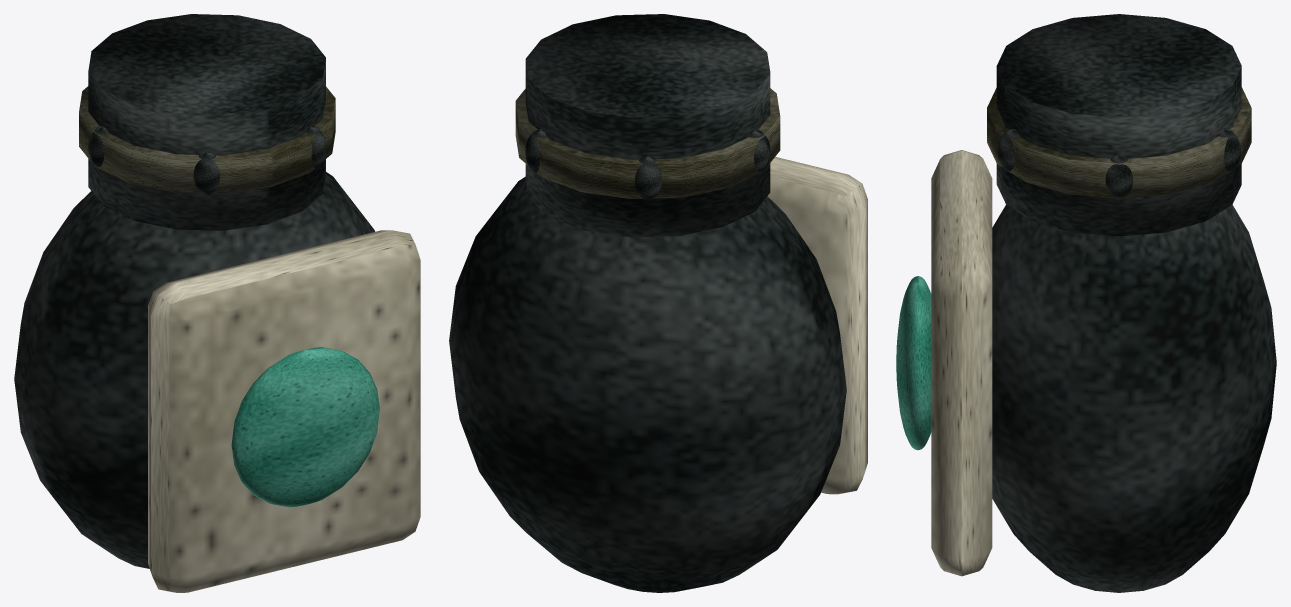
File: organ-mirrorGland.glb
3 views of the same model, side by side, from view 1: azimuth 30°, elevation 25°; view 2: azimuth 150°, elevation 25°; view 3: azimuth 270°, elevation 25° (orthographic). The views are drawn at different scales.
Visible parts, largest first — view 1: organ-mirrorGland; view 2: organ-mirrorGland; view 3: organ-mirrorGland.
Part boxes in pixels (x1,y1,x2,y2): organ-mirrorGland: [14, 14, 420, 592]; organ-mirrorGland: [449, 14, 867, 592]; organ-mirrorGland: [896, 14, 1276, 592].
Bounding box in the file's own units: 0.48 × 0.645 × 0.435.
Materials: 4 (4 with a texture image).
